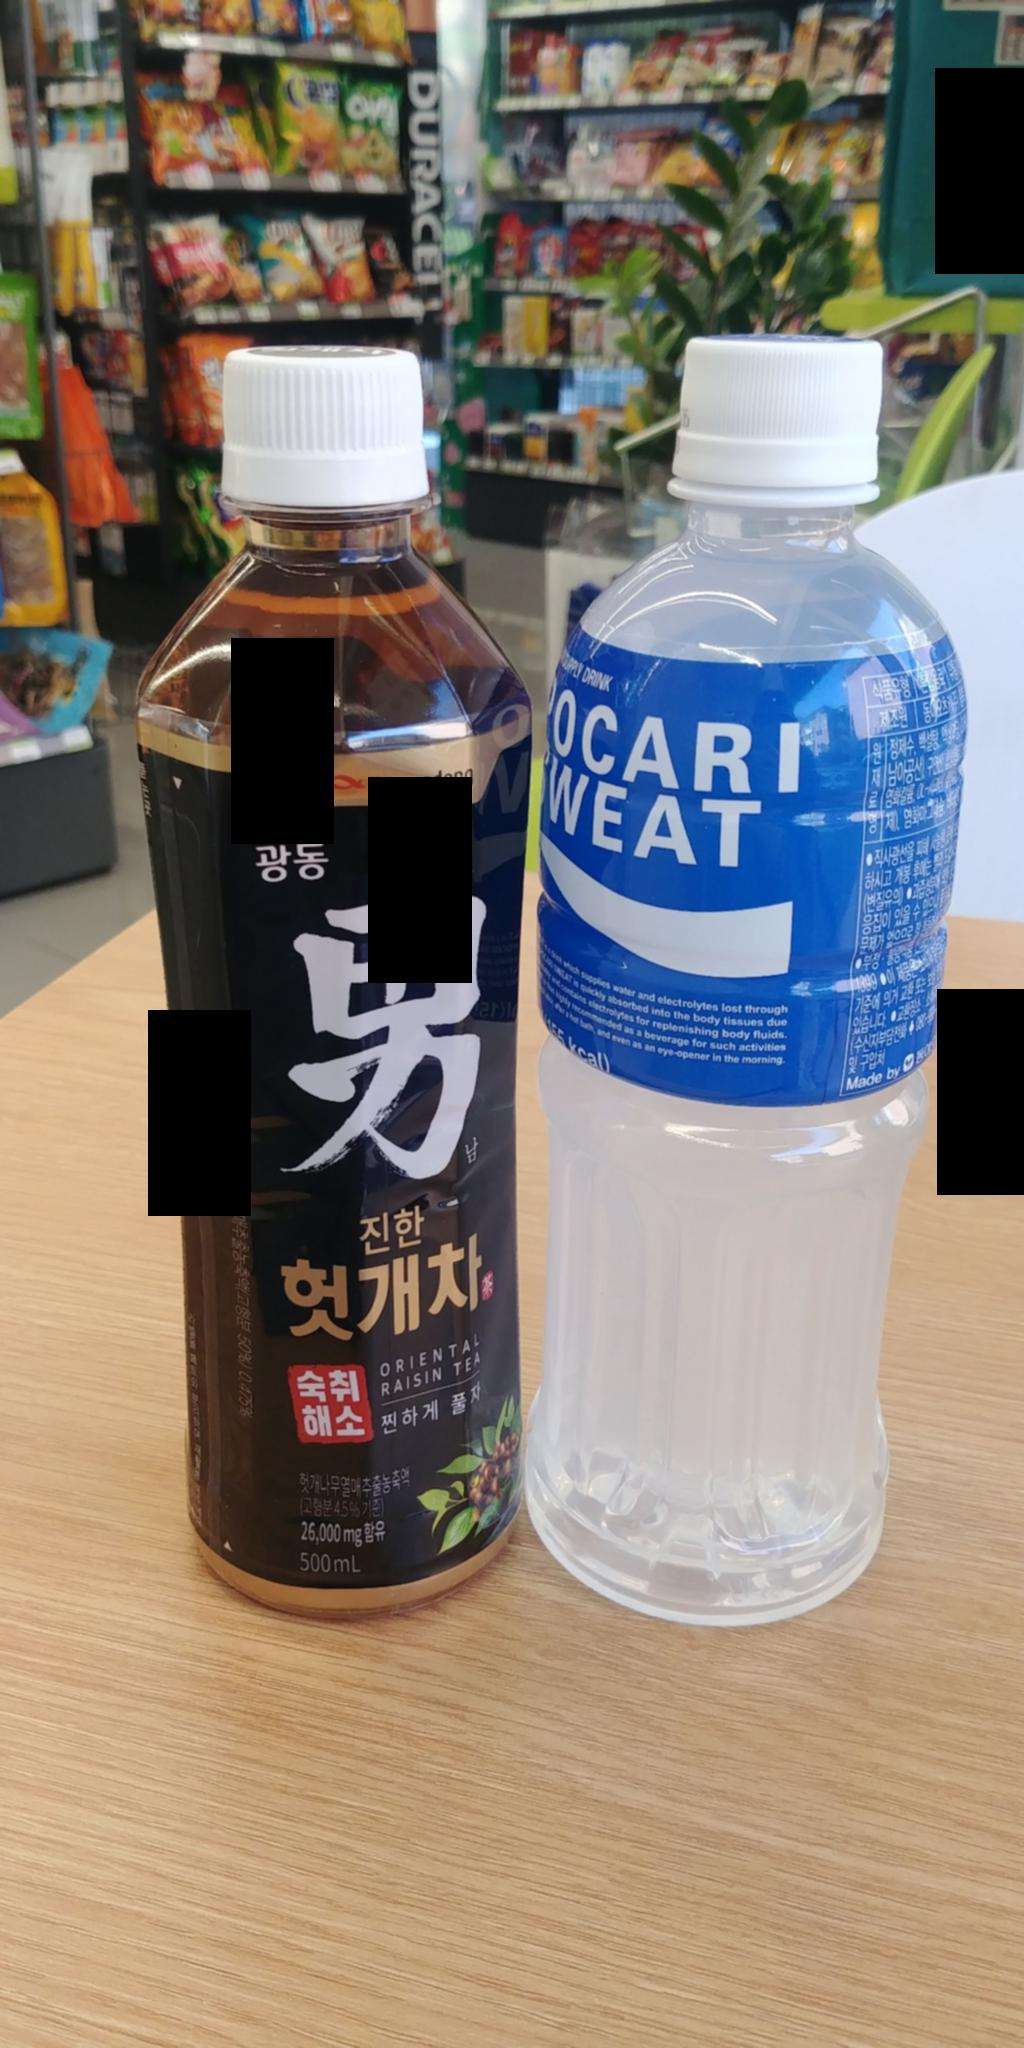heotgaecha: (136, 328, 546, 1604)
pocarisweat: (503, 310, 989, 1648)
